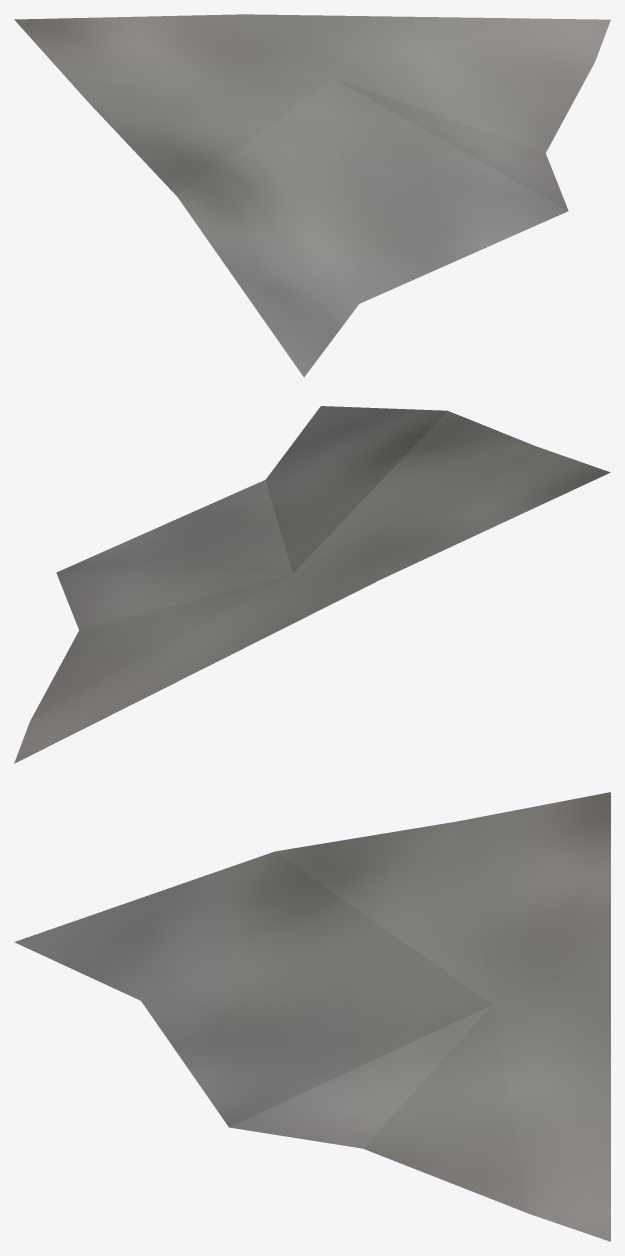
The picture shows the model from 3 angles, top to bottom: view 1: azimuth 30°, elevation 25°; view 2: azimuth 210°, elevation 25°; view 3: azimuth 270°, elevation 25°; orthographic projection. The views are drawn at different scales.
Size of the model in its own units: 0.1315 by 0.0307 by 0.1106.
Materials: 1 (1 with a texture image).
